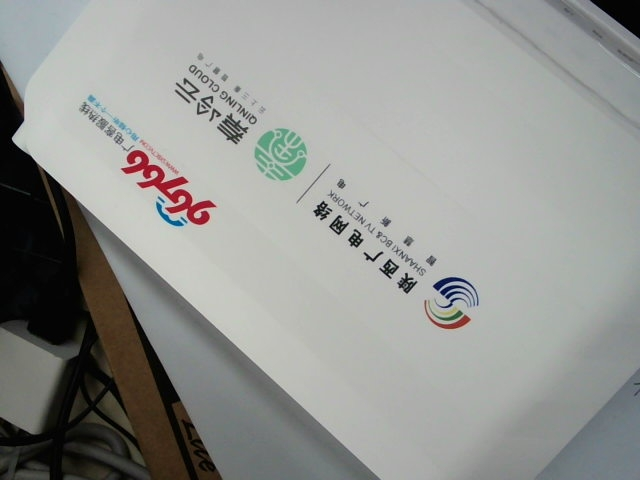AE_QinLing: (167, 41, 314, 181)
